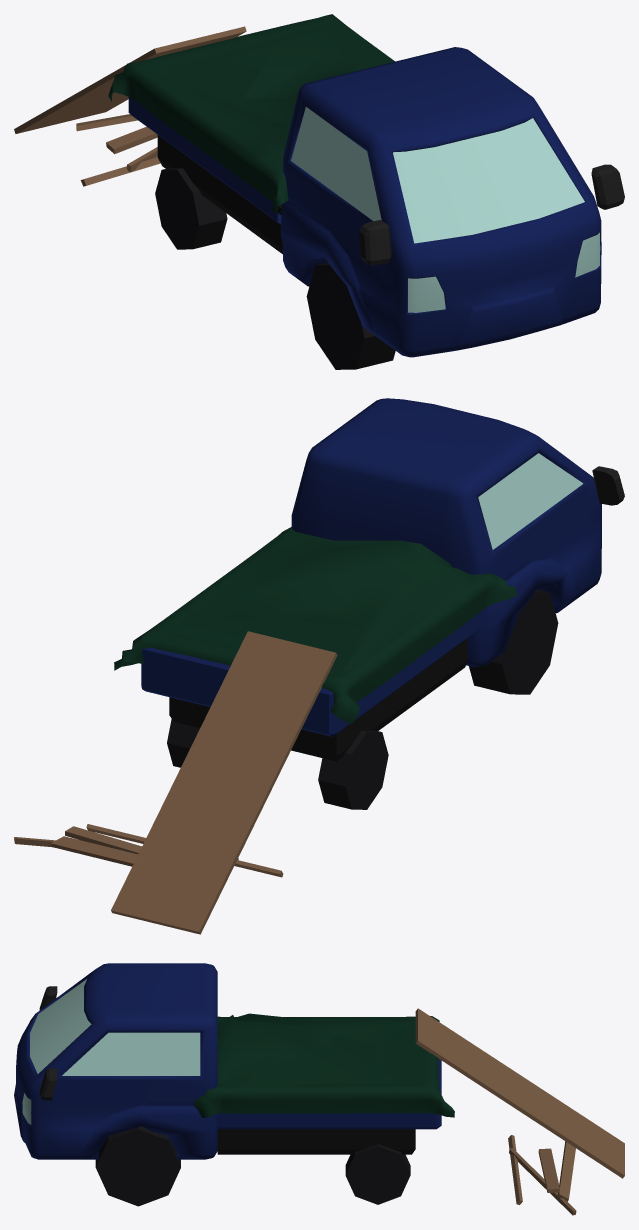
File: Climb_Poter_SM.fbx
3 renders of one model, top to bottom at view 1: azimuth 30°, elevation 25°; view 2: azimuth 150°, elevation 25°; view 3: azimuth 270°, elevation 25°, orthographic. The views are drawn at different scales.
Parts seen in each view (by area): view 1: Climb_Poter_SM; view 2: Climb_Poter_SM; view 3: Climb_Poter_SM.
Part boxes in pixels (x1,y1,x2,y2): Climb_Poter_SM: (14, 14, 624, 369); Climb_Poter_SM: (14, 398, 624, 934); Climb_Poter_SM: (14, 963, 624, 1215).
Bounding box in the file's own units: 188 × 171 × 506.
